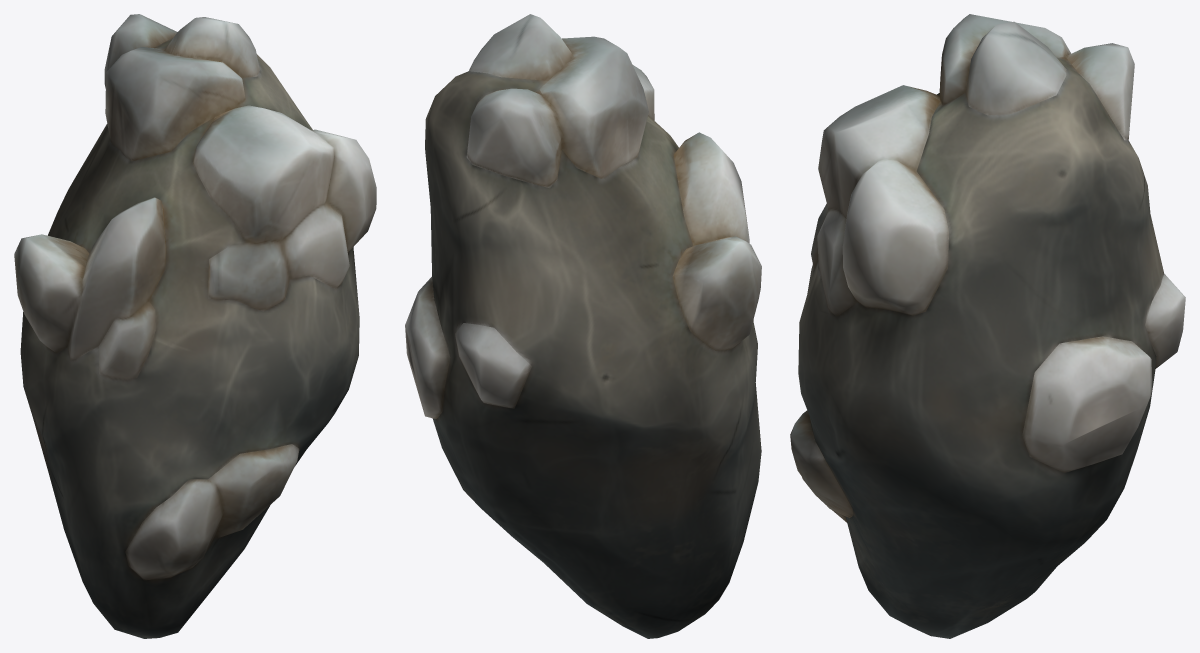
Rendered from SM_Gem_Silver_004.fbx.
3 renders of one model, left to right at view 1: azimuth 30°, elevation 25°; view 2: azimuth 150°, elevation 25°; view 3: azimuth 270°, elevation 25°, orthographic. The views are drawn at different scales.
Visible parts, largest first — view 1: SM_Gem_Silver_004; view 2: SM_Gem_Silver_004; view 3: SM_Gem_Silver_004.
Part boxes in pixels (box(x1,y1,x2,y2)): SM_Gem_Silver_004: box(14, 14, 376, 638); SM_Gem_Silver_004: box(405, 14, 761, 638); SM_Gem_Silver_004: box(790, 14, 1185, 638).
Bounding box in the file's own units: 51.12 × 90.76 × 49.38.
